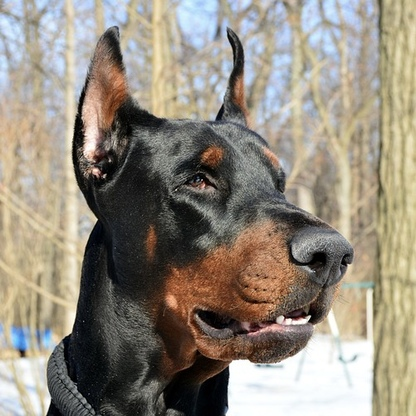doberman: (65, 22, 361, 416)
